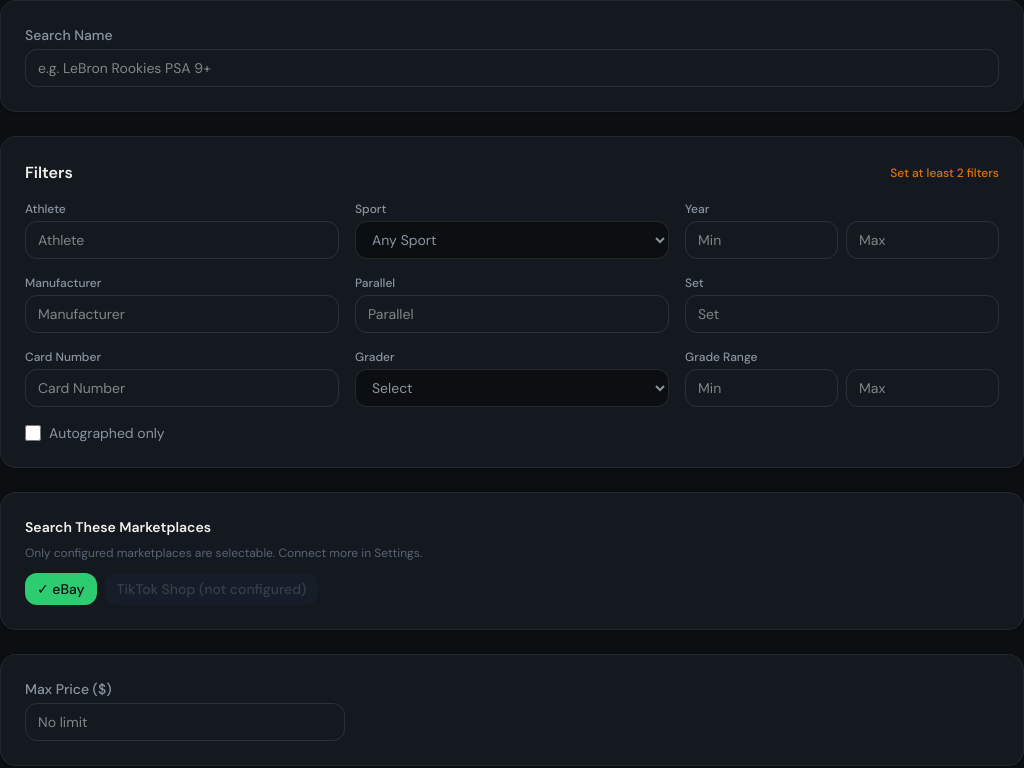
Test: SearchForm › toggles a marketplace off when clicking it twice
Click the button "✓ eBay": click(61, 589) [25,573,97,605]
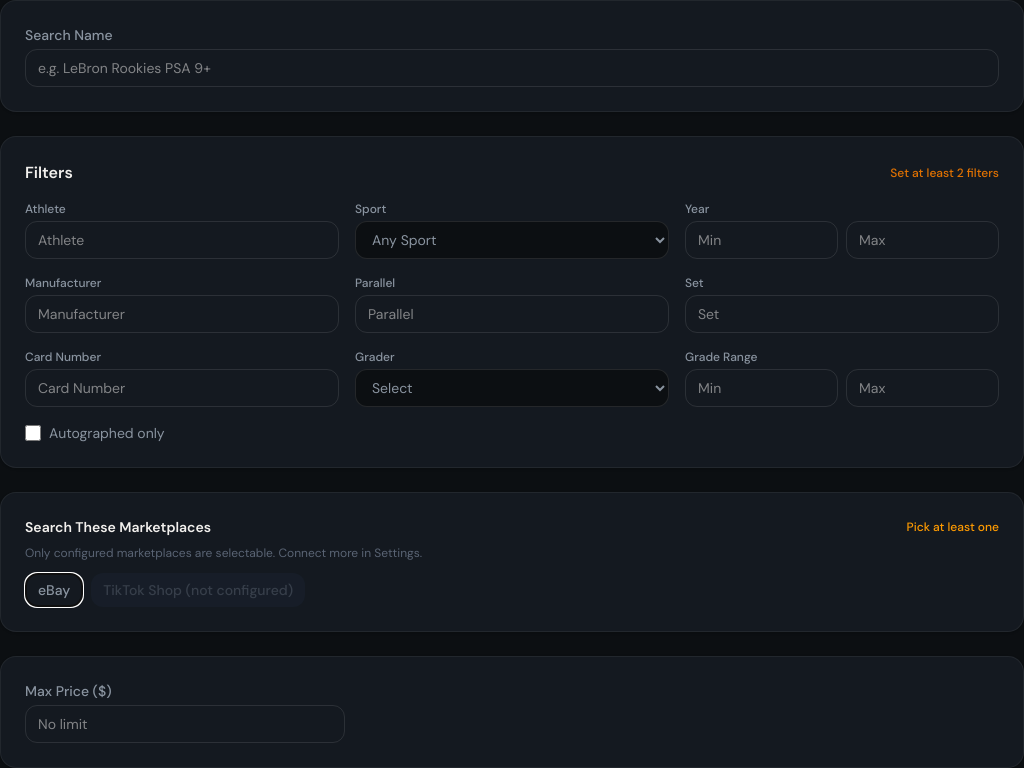
Check: the button "eBay" no longer shows "✓", box [25,573,83,607]
